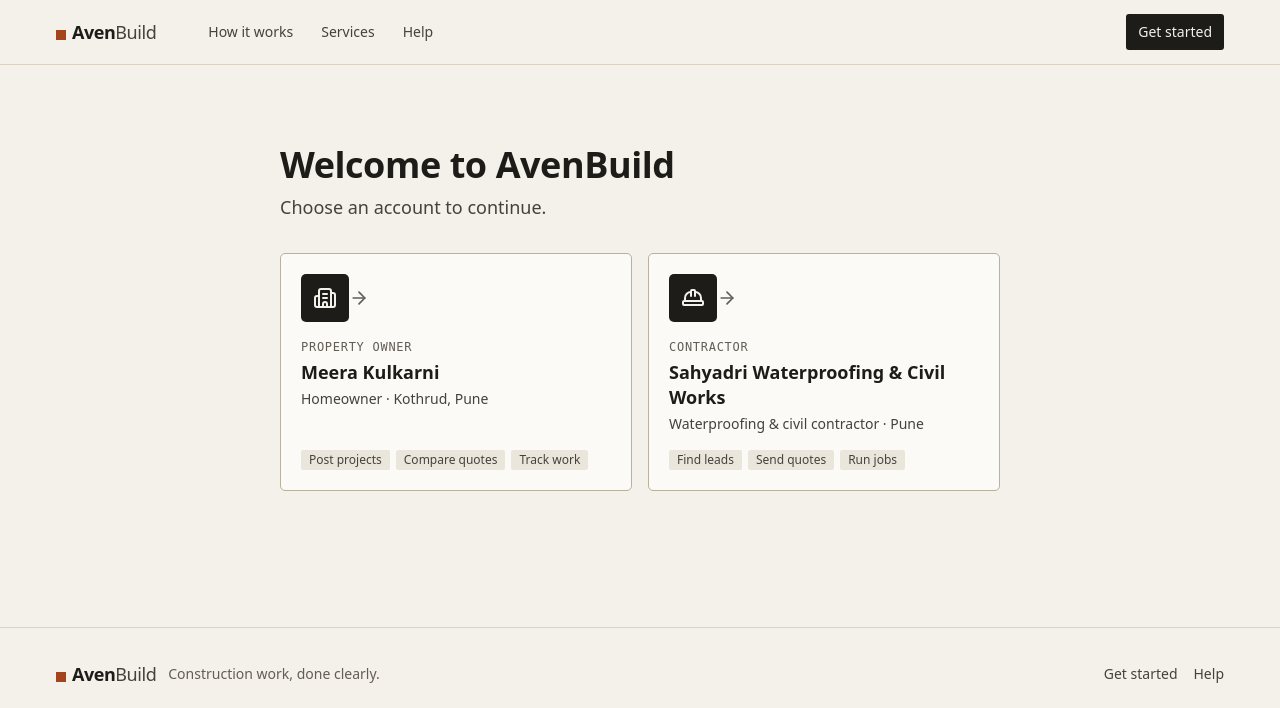
Test: app shell and persona selection › redirects guarded routes to persona selection and continues after choosing
This screenshot has width=1280, height=708.
Click the button "Meera Kulkarni". click: {"x": 325, "y": 298}
box: [280, 253, 632, 490]
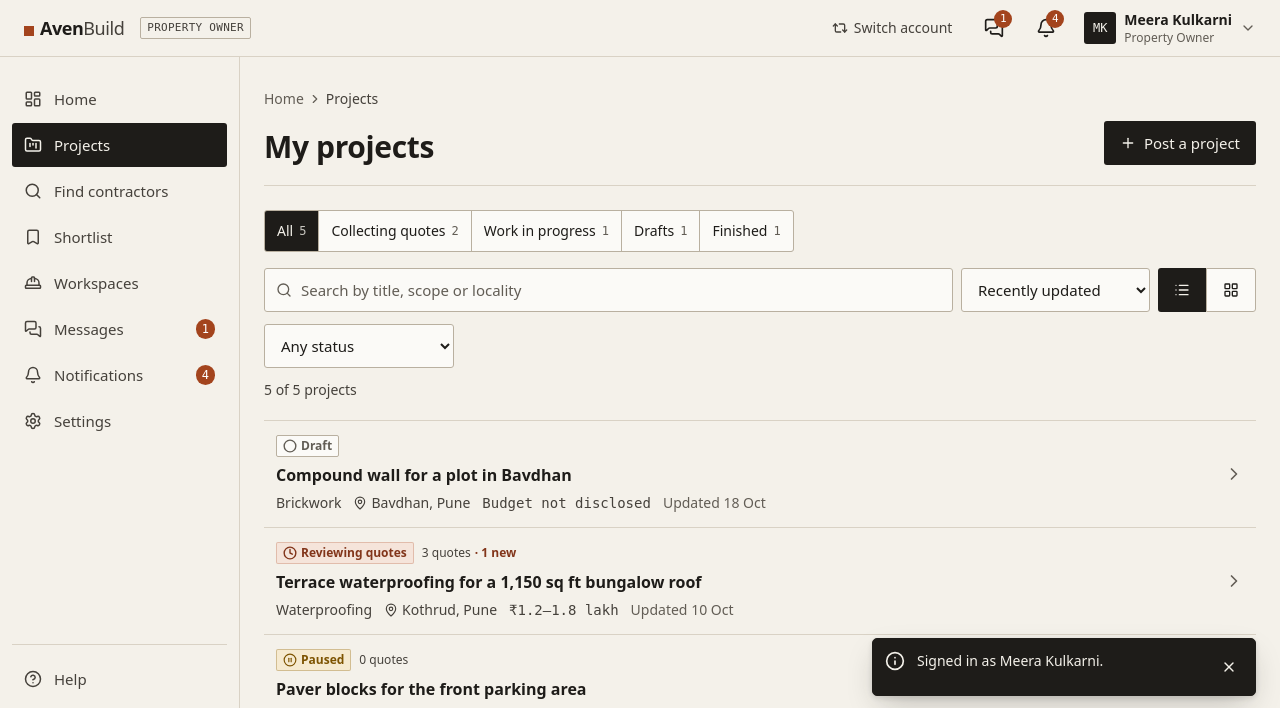
Result: the heading "My projects" is shown at [264, 128, 434, 165]
